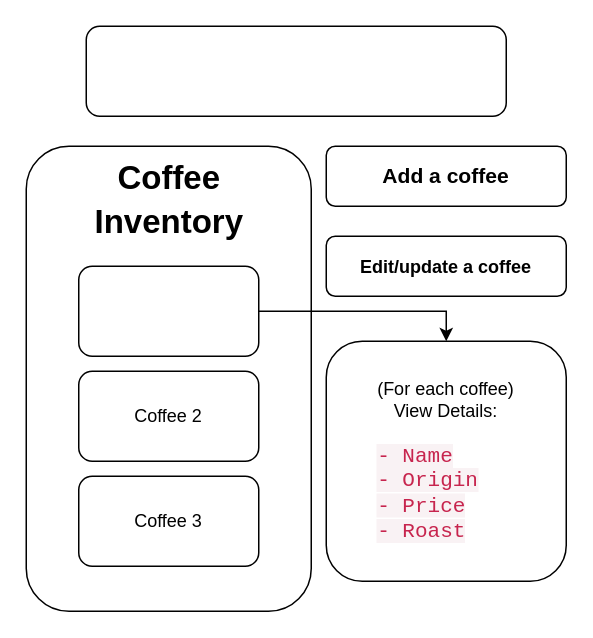
This 593x638 diagram has some shape labels left out. The centre of each missing label's shape, as x and y in pixels:
Coffee 1: point 168,310
Header: point 295,70
